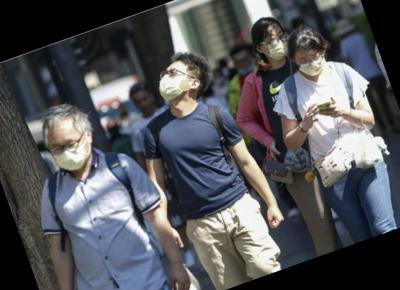mask_weared_incorrect: (233, 51, 257, 78)
with_mask: (46, 127, 98, 176), (154, 62, 197, 104), (293, 44, 331, 82), (257, 26, 293, 64)
without_mask: (132, 90, 157, 117)
